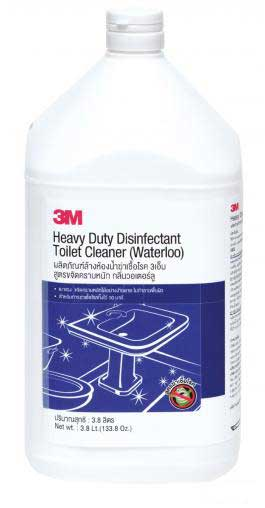Cleaning_solution: (18, 5, 250, 490)
